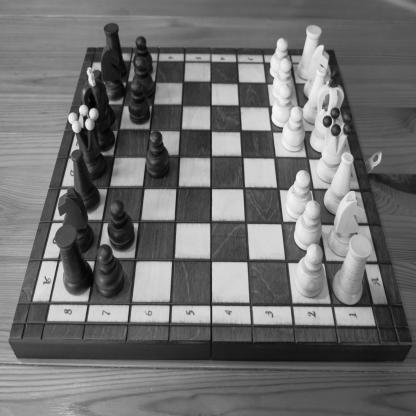black-bishop: (70, 148, 102, 214), (90, 69, 116, 129)
black-king: (81, 66, 116, 153)
black-knight: (57, 187, 94, 254), (100, 43, 126, 102)
black-pawn: (93, 242, 125, 299), (107, 198, 136, 252), (145, 128, 171, 180), (127, 78, 150, 126), (131, 55, 154, 101), (133, 36, 154, 79)
black-queen: (68, 104, 107, 180)
black-rook: (55, 223, 94, 295), (104, 22, 128, 80)
white-bishop: (323, 152, 354, 216), (302, 66, 326, 125)
white-king: (309, 68, 345, 153)
white-knight: (327, 190, 365, 258), (303, 44, 330, 101)
white-pawn: (294, 243, 325, 299), (293, 199, 322, 252), (284, 169, 312, 220), (282, 106, 307, 152), (271, 83, 294, 129), (272, 57, 295, 101), (269, 39, 290, 80)
white-queen: (316, 106, 353, 184)
white-rook: (331, 234, 372, 306), (297, 24, 322, 81)
